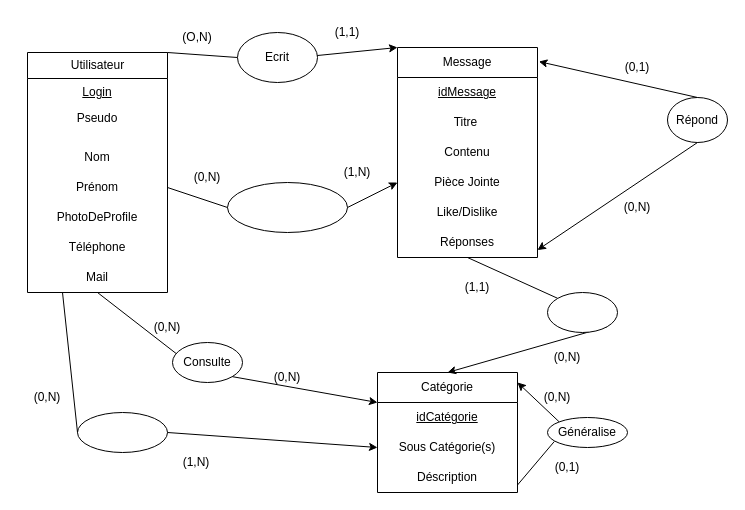
Some shapes in this 745 by 510 pixel diagram are drawn without their labels. The shapes that lost their labels are listed below. From the top down, each one's centre as x and y in pixels, then its label:
point 287,207: A lu ? Date de la lecture
point 582,312: Contient
point 122,432: Modérateur Niveau
